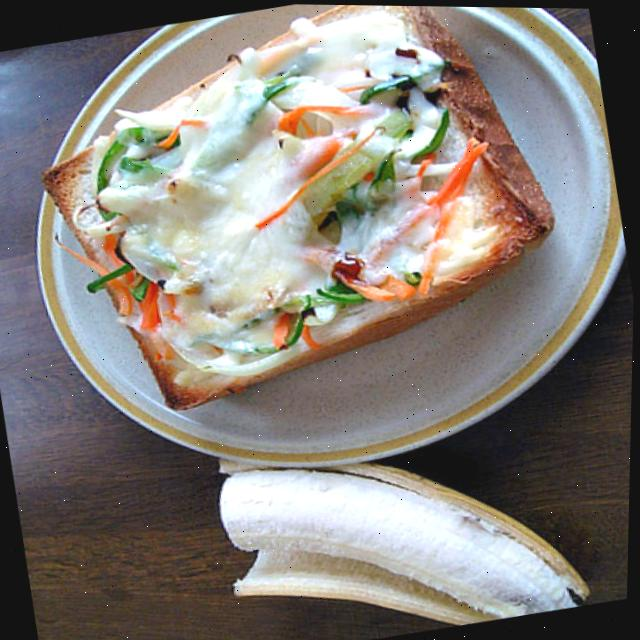面包点心: (15, 0, 640, 491)
